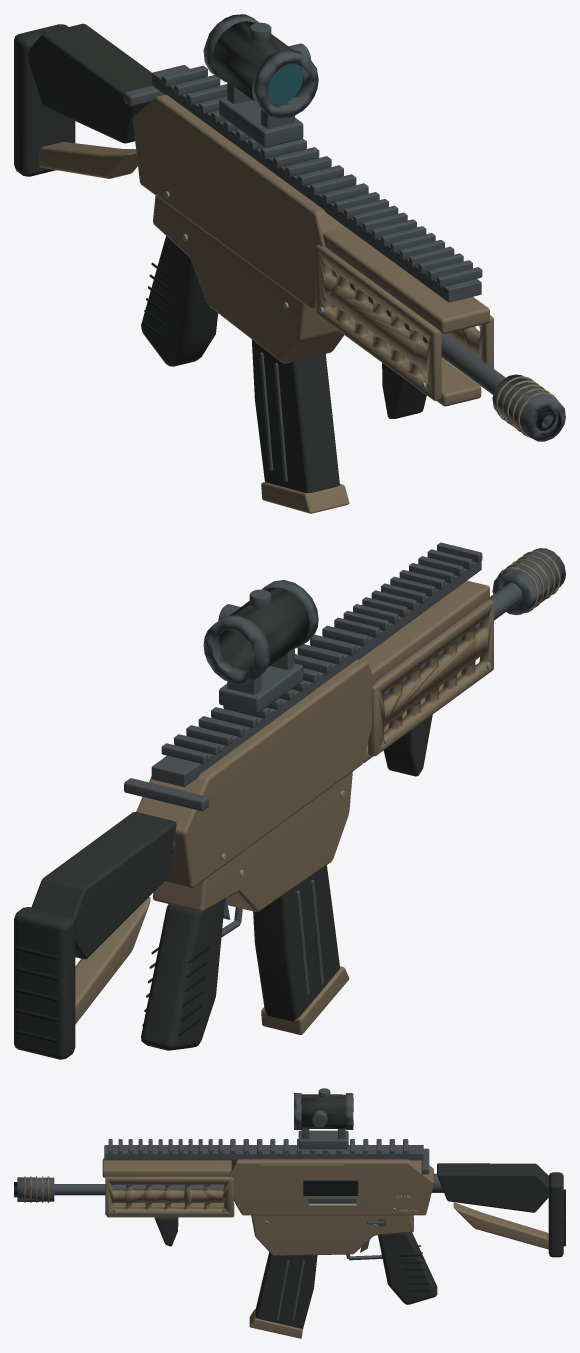
The model's file is m2_smg.glb.
3 views of the same model, one above another, from view 1: azimuth 30°, elevation 25°; view 2: azimuth 150°, elevation 25°; view 3: azimuth 270°, elevation 25° (orthographic). The views are drawn at different scales.
Visible parts, largest first — view 1: m2_smg_nc7_coating, m2_smg_nc7_polymer, m2_smg_nc7_alloy, m2_smg_nc7_lens, m2_smg_nc7_dark; view 2: m2_smg_nc7_coating, m2_smg_nc7_polymer, m2_smg_nc7_alloy, m2_smg_nc7_dark; view 3: m2_smg_nc7_coating, m2_smg_nc7_polymer, m2_smg_nc7_alloy, m2_smg_nc7_dark, m2_smg_nc7_edge.
Boxes of the visible parts, left/top/right/bottom form: m2_smg_nc7_coating: left=38, top=94, right=557, bottom=513; m2_smg_nc7_polymer: left=14, top=21, right=426, bottom=492; m2_smg_nc7_alloy: left=124, top=14, right=565, bottom=481; m2_smg_nc7_lens: left=267, top=64, right=302, bottom=104; m2_smg_nc7_dark: left=142, top=262, right=561, bottom=435; m2_smg_nc7_coating: left=75, top=551, right=560, bottom=1034; m2_smg_nc7_polymer: left=14, top=587, right=432, bottom=1059; m2_smg_nc7_alloy: left=124, top=542, right=565, bottom=995; m2_smg_nc7_dark: left=15, top=946, right=209, bottom=1042; m2_smg_nc7_coating: left=24, top=1158, right=548, bottom=1338; m2_smg_nc7_polymer: left=154, top=1094, right=563, bottom=1328; m2_smg_nc7_alloy: left=17, top=1088, right=443, bottom=1319; m2_smg_nc7_dark: left=14, top=1180, right=565, bottom=1291; m2_smg_nc7_edge: left=112, top=1164, right=395, bottom=1227.
Size of the model in its own units: 0.0765 by 0.4145 by 0.8521.
